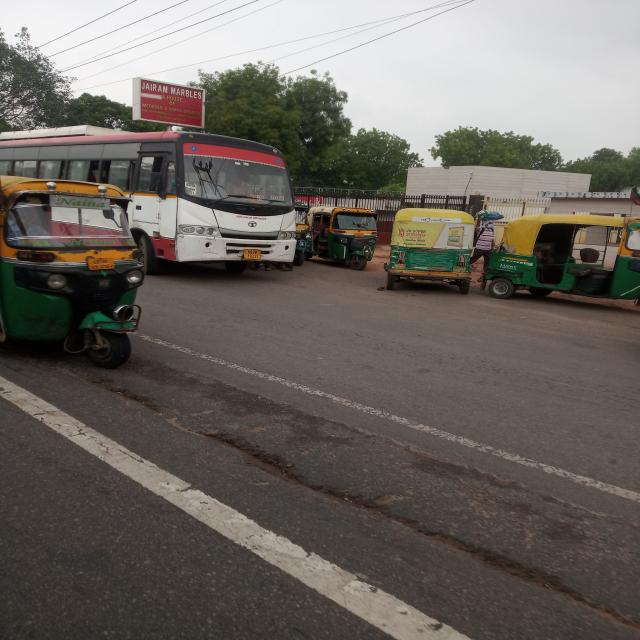Auto: (0, 175, 145, 368), (384, 208, 640, 300), (307, 206, 377, 269)
Bus: (0, 130, 294, 272)
